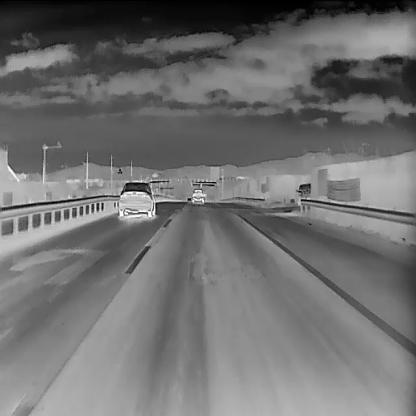car: (118, 180, 159, 216), (296, 183, 313, 205), (191, 187, 206, 202)
